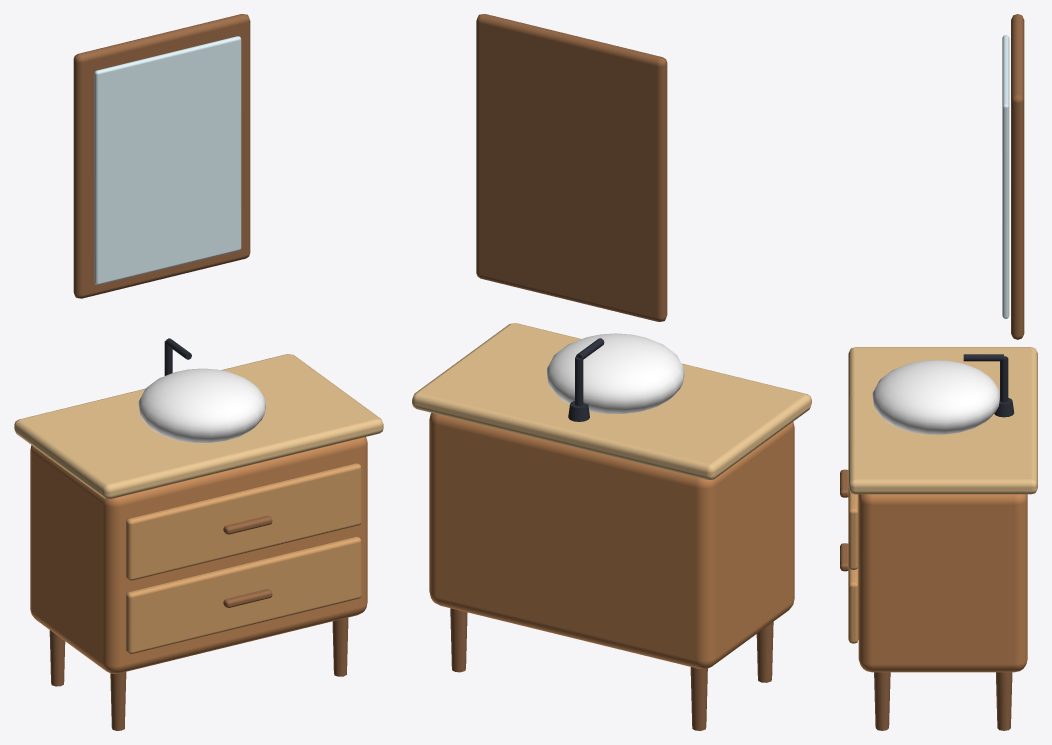
File: vanity-wood.glb
The picture shows the model from 3 angles, left to right: view 1: azimuth 30°, elevation 25°; view 2: azimuth 150°, elevation 25°; view 3: azimuth 270°, elevation 25°; orthographic projection. The views are drawn at different scales.
Bounding box in the file's own units: 0.96 × 2.02 × 0.585.
